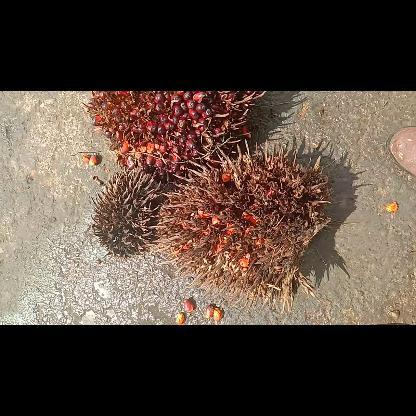Janjang kosong: (90, 164, 162, 260)
TBS masak: (82, 91, 266, 177)
Terlalu masak: (149, 139, 333, 313)
